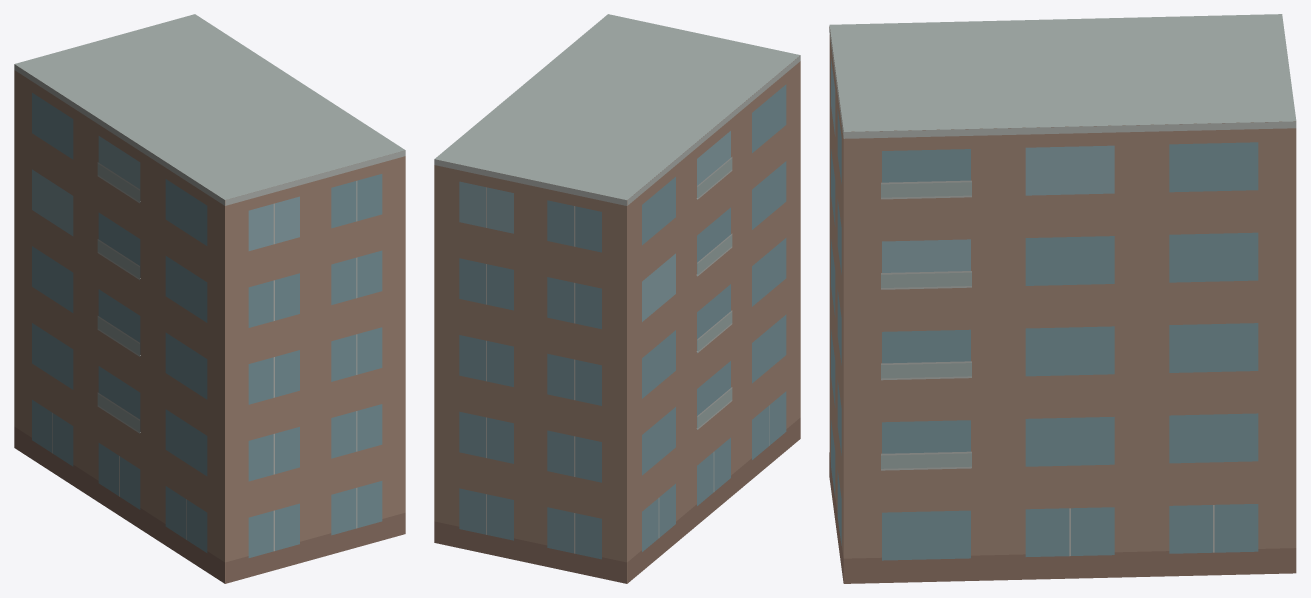
The model's file is survey-upis-32869689.glb.
3 renders of one model, left to right at view 1: azimuth 30°, elevation 25°; view 2: azimuth 150°, elevation 25°; view 3: azimuth 270°, elevation 25°, orthographic. The views are drawn at different scales.
Parts seen in each view (by area): view 1: survey-upis-32869689.tmp; view 2: survey-upis-32869689.tmp; view 3: survey-upis-32869689.tmp.
Boxes of the visible parts, x1,y1,x2,y2 form: survey-upis-32869689.tmp: [14, 14, 405, 583]; survey-upis-32869689.tmp: [434, 14, 800, 583]; survey-upis-32869689.tmp: [829, 14, 1296, 583].
Size of the model in its own units: 8.97 by 16 by 14.99.
